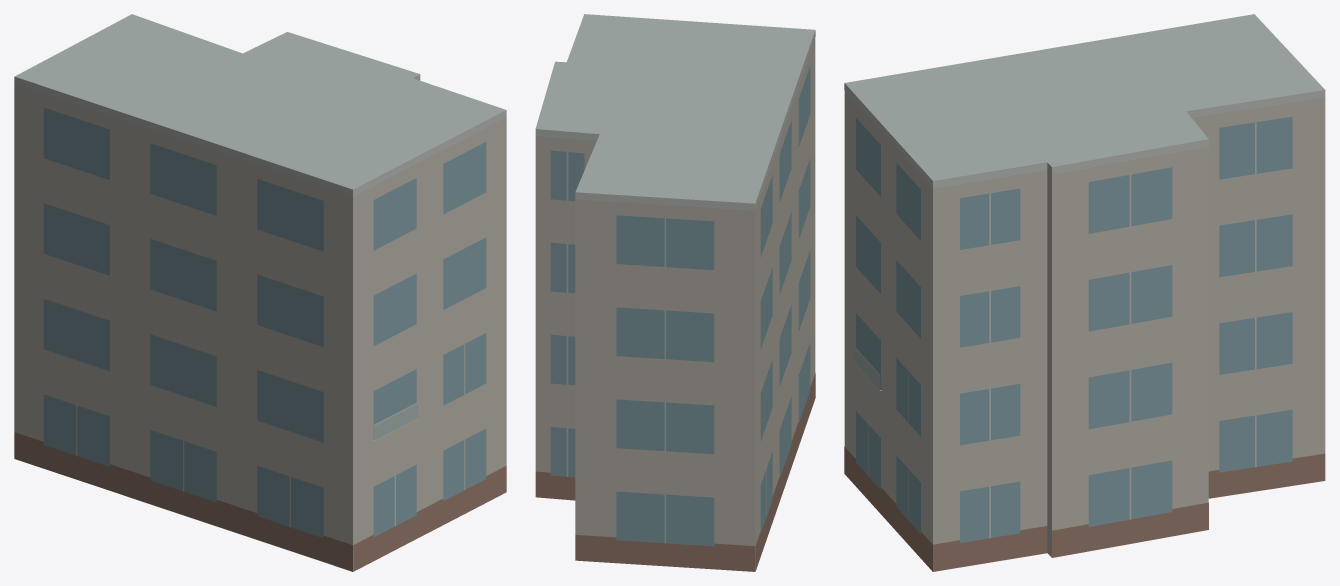
Rendered from survey-upis-32516503.glb.
3 views of the same model, side by side, from view 1: azimuth 30°, elevation 25°; view 2: azimuth 150°, elevation 25°; view 3: azimuth 270°, elevation 25° (orthographic). The views are drawn at different scales.
Visible parts, largest first — view 1: survey-upis-32516503.tmp; view 2: survey-upis-32516503.tmp; view 3: survey-upis-32516503.tmp.
Part boxes in pixels (bbox=[...]): survey-upis-32516503.tmp: bbox=[14, 14, 506, 571]; survey-upis-32516503.tmp: bbox=[535, 14, 815, 571]; survey-upis-32516503.tmp: bbox=[844, 14, 1325, 571].
Size of the model in its own units: 11.74 by 12.8 by 14.28.
